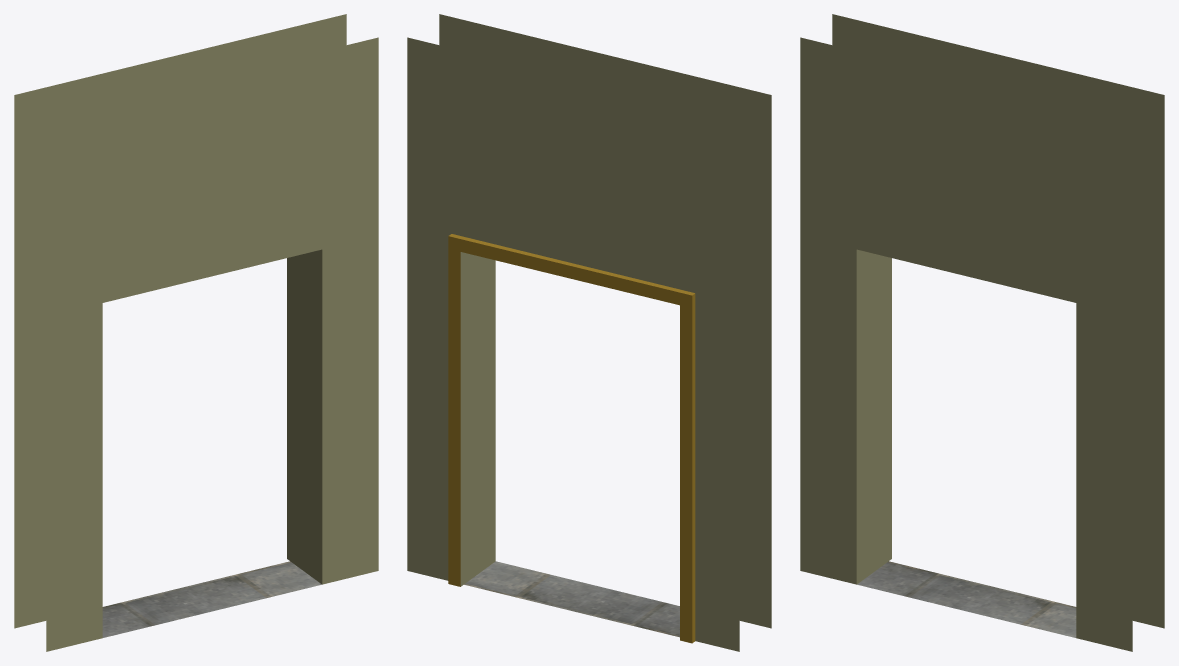
The model's file is 3x3_door_entry_point.fbx.
3 renders of one model, left to right at view 1: azimuth 30°, elevation 25°; view 2: azimuth 150°, elevation 25°; view 3: azimuth 330°, elevation 25°, orthographic.
Visible parts, largest first — view 1: DoorEntry; view 2: DoorEntry; view 3: DoorEntry.
Part boxes in pixels (x1,y1,x2,y2): DoorEntry: [14, 14, 378, 651]; DoorEntry: [407, 14, 771, 651]; DoorEntry: [800, 14, 1164, 651].
Size of the model in its own units: 300 by 460 by 55.
